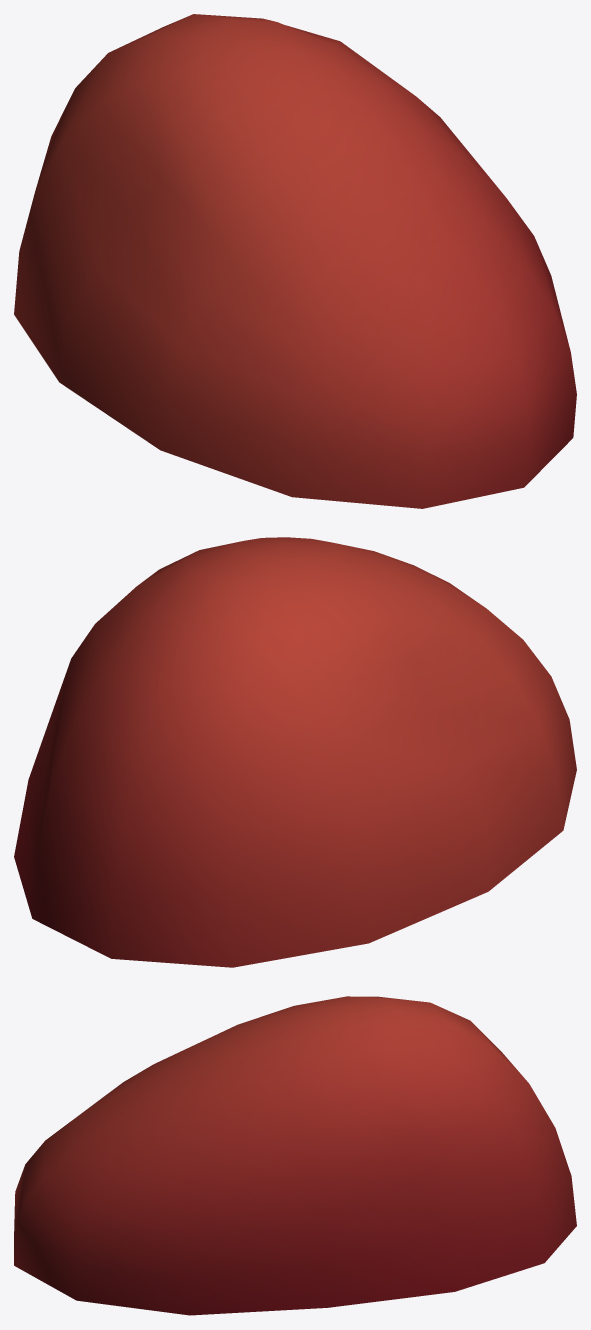
Rendered from SM_Bush.fbx.
3 views of the same model, one above another, from view 1: azimuth 30°, elevation 25°; view 2: azimuth 150°, elevation 25°; view 3: azimuth 270°, elevation 25° (orthographic). The views are drawn at different scales.
Visible parts, largest first — view 1: Bush; view 2: Bush; view 3: Bush.
Boxes of the visible parts, x1,y1,x2,y2 form: Bush: (14,14,576,508); Bush: (14,537,576,967); Bush: (14,996,576,1315).
Bounding box in the file's own units: 96.7 × 67.06 × 144.
